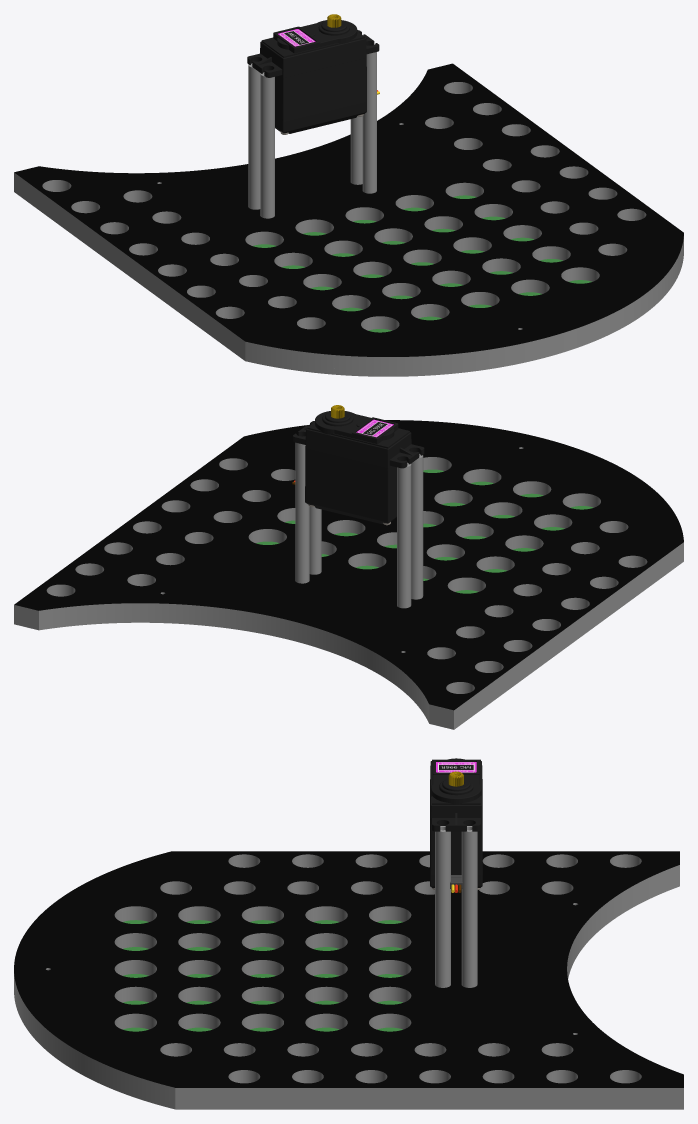
The model's file is base_assembly.obj.
3 views of the same model, one above another, from view 1: azimuth 30°, elevation 25°; view 2: azimuth 150°, elevation 25°; view 3: azimuth 270°, elevation 25° (orthographic). The views are drawn at different scales.
Visible parts, largest first — view 1: Top_MDF_Plate, Body1:4, Bottom_MDF_Plate, Body1:2, Green_Print, Body1, Body1:3, Body1:1; view 2: Top_MDF_Plate, Body1:4, Bottom_MDF_Plate, Body1, Body1:1, Body1:2, Green_Print, Body1:3; view 3: Top_MDF_Plate, Bottom_MDF_Plate, Body1:4, Body1:1, Body1:3, Green_Print.
Part boxes in pixels (x1,y1,x2,y2): Top_MDF_Plate: (14, 63, 683, 370); Body1:4: (247, 14, 379, 134); Bottom_MDF_Plate: (14, 185, 683, 376); Body1:2: (260, 72, 274, 218); Green_Print: (253, 195, 591, 332); Body1: (248, 63, 260, 209); Body1:3: (362, 52, 376, 193); Body1:1: (350, 116, 362, 184); Top_MDF_Plate: (14, 420, 683, 723); Body1:4: (292, 405, 424, 525); Bottom_MDF_Plate: (14, 555, 683, 729); Body1: (397, 462, 411, 608); Body1:1: (295, 442, 309, 583); Body1:2: (411, 454, 423, 599); Green_Print: (256, 469, 593, 593); Body1:3: (309, 506, 321, 574); Top_MDF_Plate: (14, 851, 683, 1102); Bottom_MDF_Plate: (14, 879, 683, 1109); Body1:4: (430, 758, 482, 892); Body1:1: (461, 826, 477, 987); Body1:3: (435, 826, 450, 987); Green_Print: (123, 920, 402, 1031).
Bounding box in the file's own units: 211 × 90 × 253.
